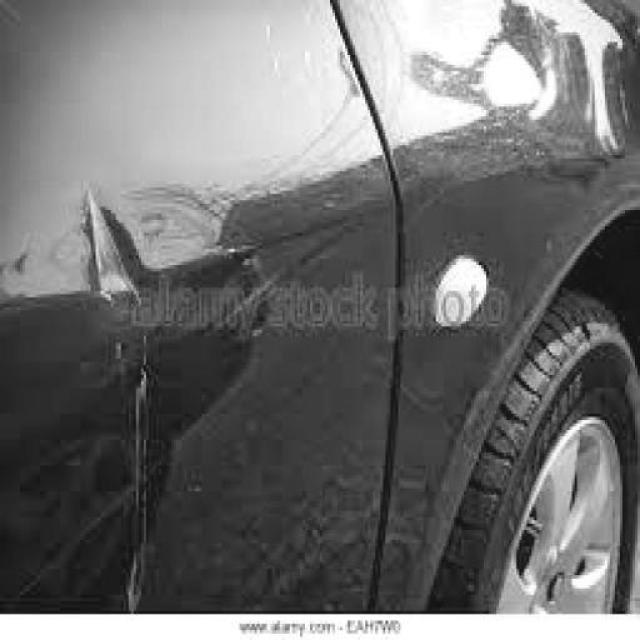car damage: (63, 158, 284, 617)
